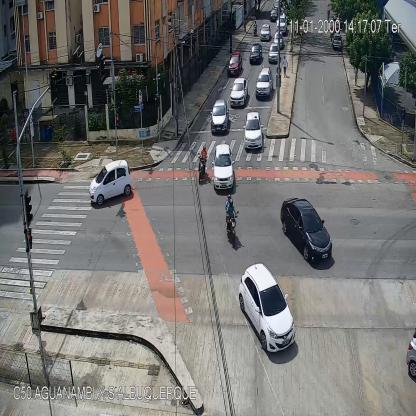car: (238, 263, 297, 353), (280, 198, 332, 264), (89, 159, 133, 206), (243, 112, 263, 149), (212, 100, 230, 134), (230, 79, 248, 108), (257, 66, 273, 98), (227, 51, 242, 76), (250, 45, 262, 66), (268, 43, 280, 63), (260, 24, 270, 40), (273, 31, 283, 47), (277, 16, 286, 31), (271, 9, 278, 23)
motorbike: (226, 194, 238, 249), (198, 146, 206, 186), (254, 20, 258, 36)
person: (282, 56, 288, 77), (10, 127, 15, 150), (354, 66, 358, 86), (327, 7, 331, 25)
